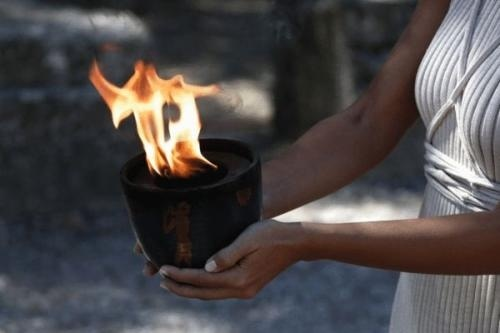fire: (86, 57, 222, 173)
